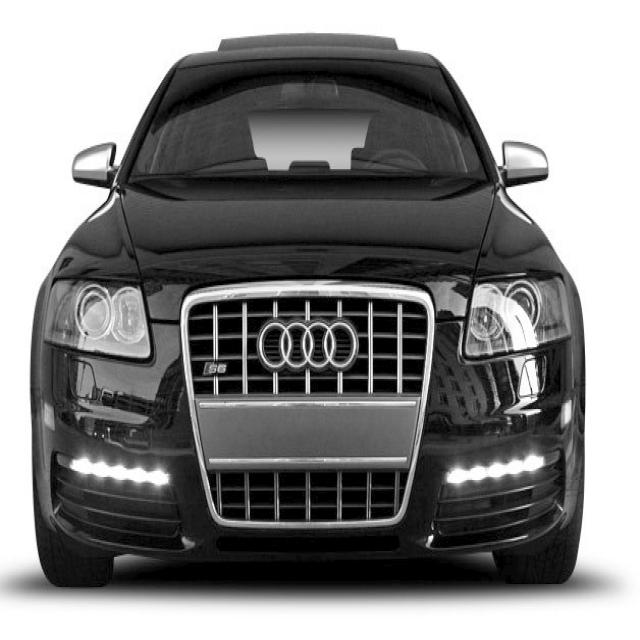car: (29, 30, 586, 589)
